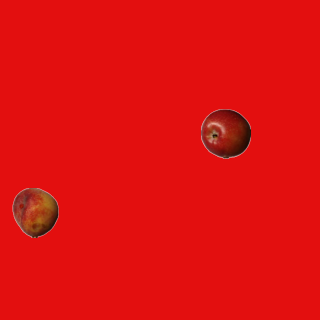Apple Braeburn: (200, 108, 250, 158)
Peach: (10, 187, 60, 237)
